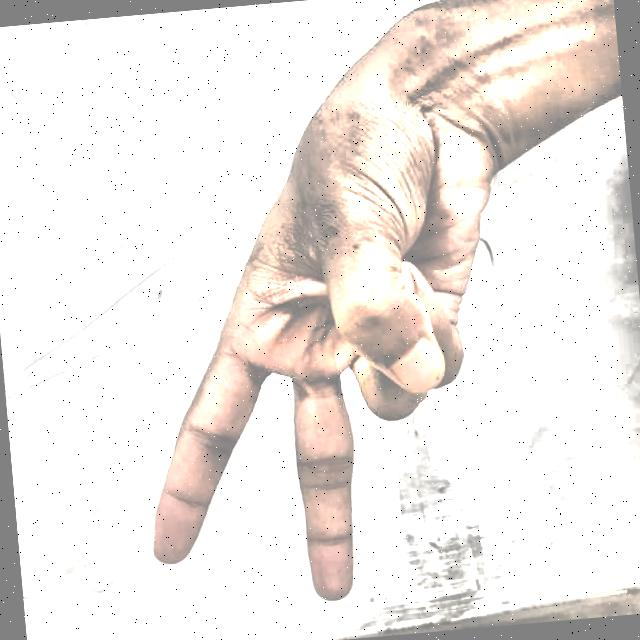Pa: (84, 30, 543, 632)
